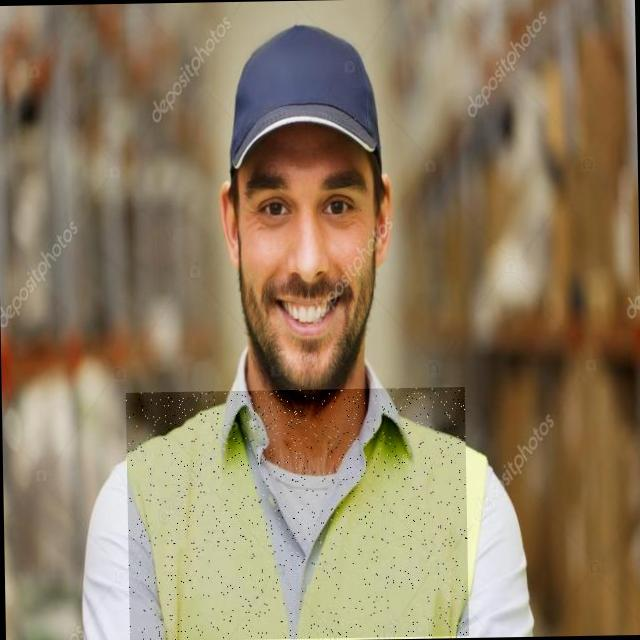Person: (108, 10, 537, 632)
Safety Vest: (125, 387, 468, 640)
no-helmet: (208, 23, 392, 160)
